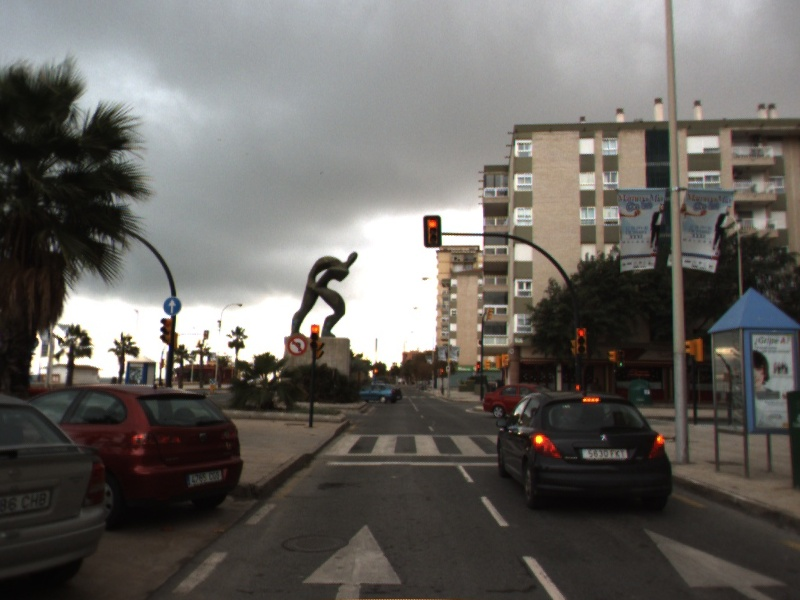STRAIGHT: (641, 527, 793, 600), (299, 521, 404, 600)
